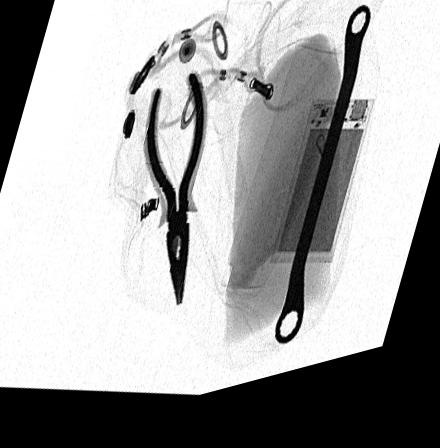Pliers: (144, 79, 204, 317)
Powerbank: (267, 114, 374, 281)
Wrench: (271, 23, 371, 360)
